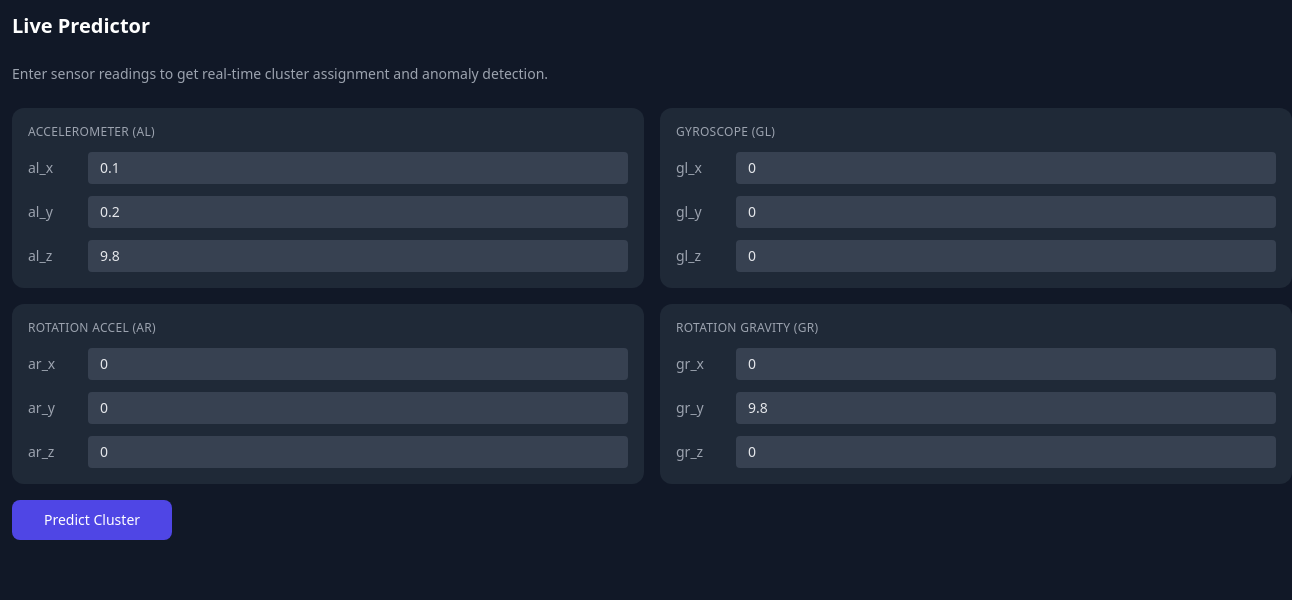
Test case: shows error on API failure
The image size is (1292, 600).
Click the button "Predict Cluster".
click(92, 520)  # box [12, 500, 172, 540]
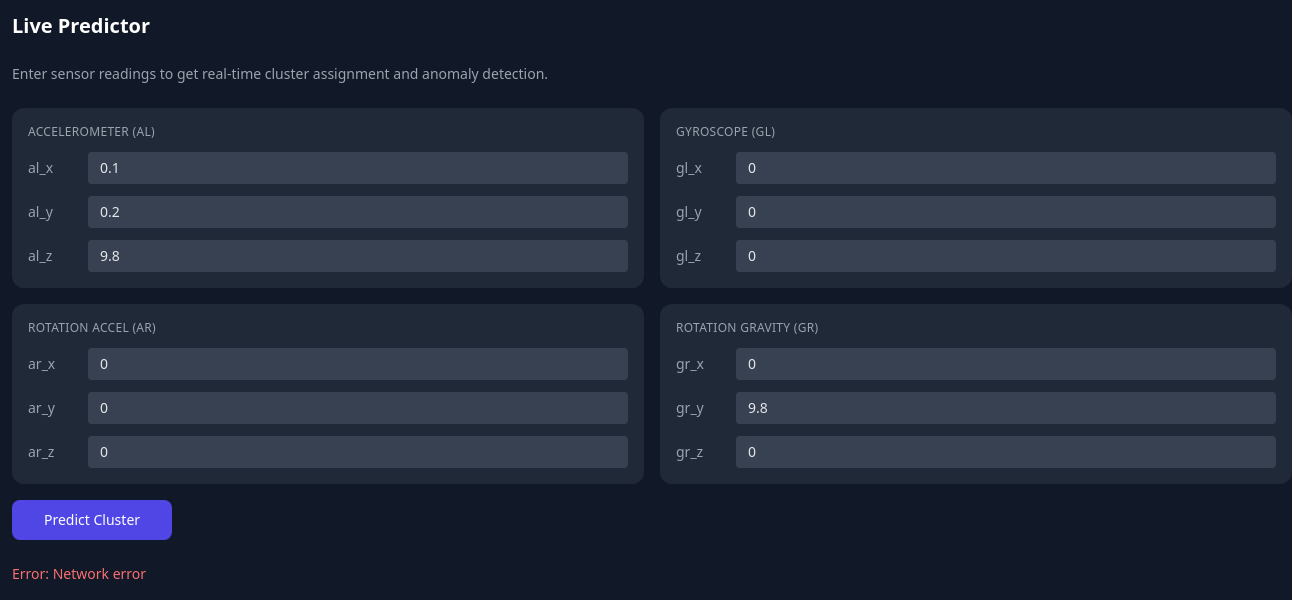
Result: the text "Error: Network error" is shown at [12, 564, 146, 583]
